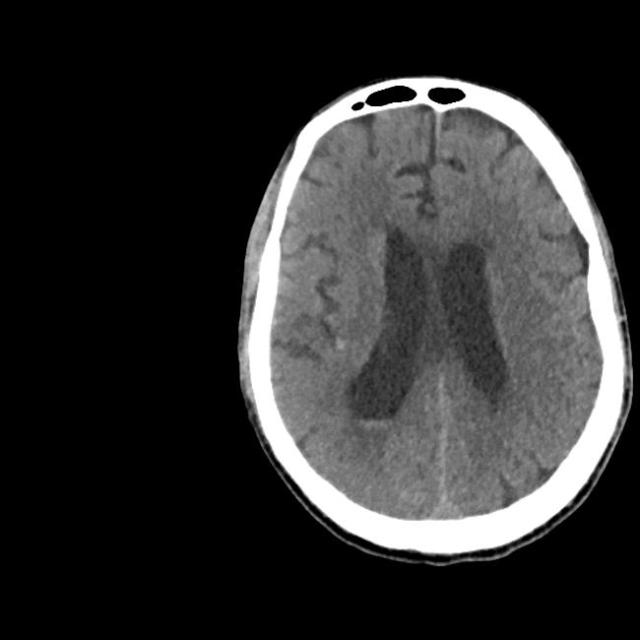lesion: (234, 74, 633, 564)
